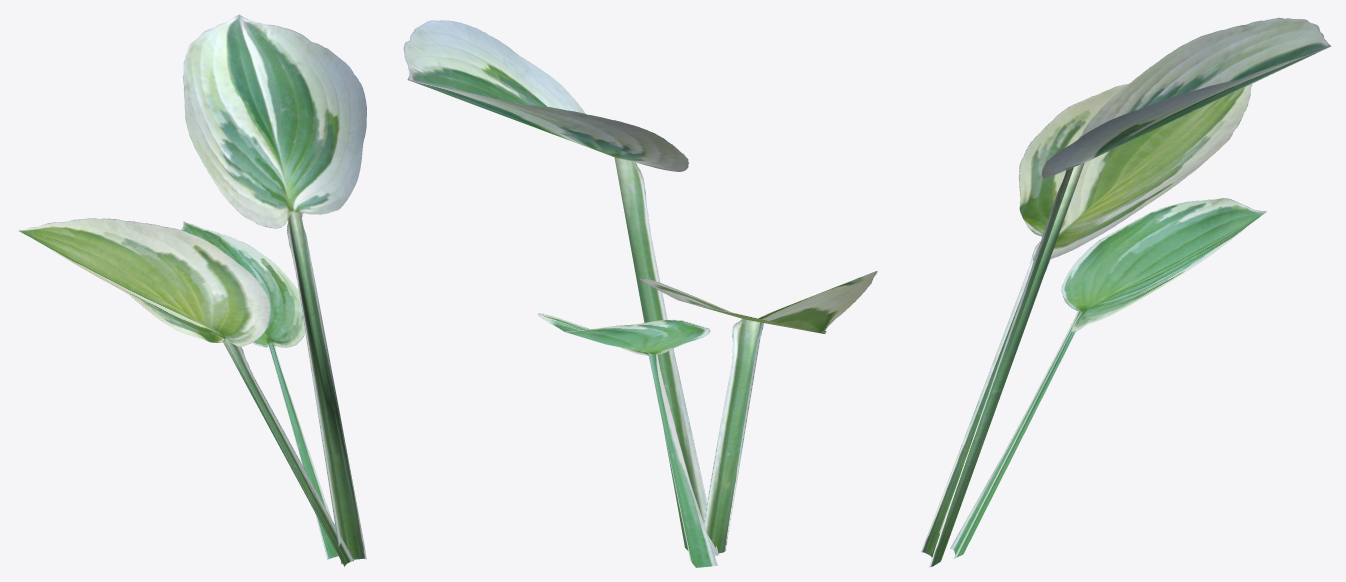
Rendered from plant_small_wg_00_fillerE_wild.fbx.
3 views of the same model, side by side, from view 1: azimuth 30°, elevation 25°; view 2: azimuth 150°, elevation 25°; view 3: azimuth 270°, elevation 25° (orthographic). The views are drawn at different scales.
Visible parts, largest first — view 1: plant_small_wg_00_fillerE_wild; view 2: plant_small_wg_00_fillerE_wild; view 3: plant_small_wg_00_fillerE_wild.
Boxes of the visible parts, <box> form: plant_small_wg_00_fillerE_wild: <box>18,14,366,566</box>; plant_small_wg_00_fillerE_wild: <box>403,20,877,567</box>; plant_small_wg_00_fillerE_wild: <box>921,17,1330,567</box>.
Size of the model in its own units: 30.73 by 40.69 by 28.1.
